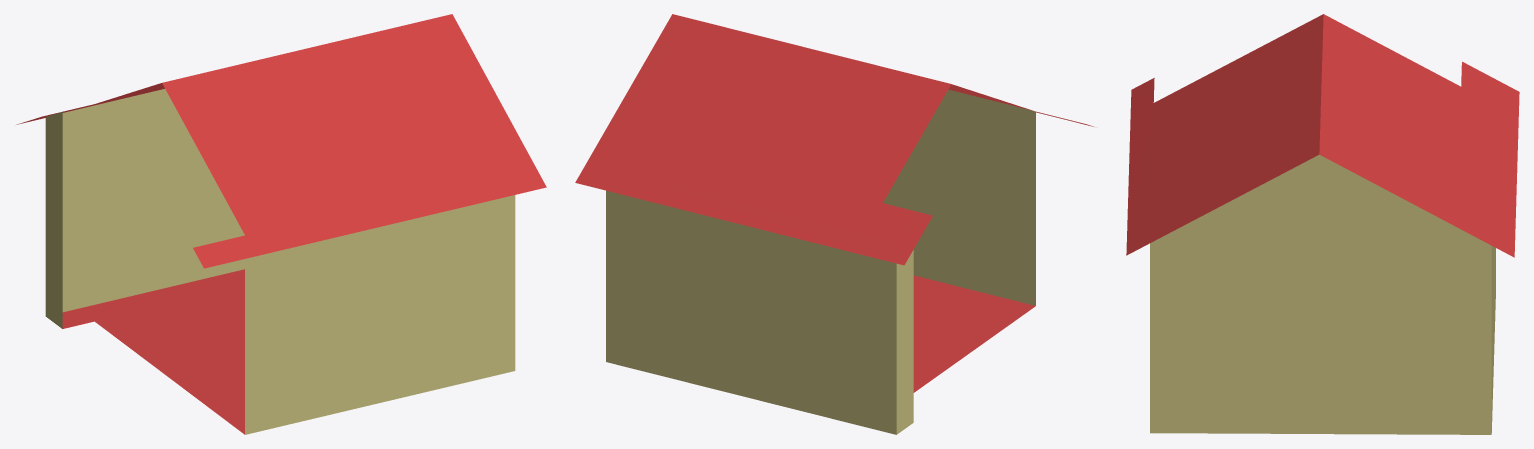
3 renders of one model, left to right at view 1: azimuth 30°, elevation 25°; view 2: azimuth 150°, elevation 25°; view 3: azimuth 270°, elevation 25°, orthographic. The views are drawn at different scales.
Bounding box in the file's own units: 12.87 × 12.73 × 10.34.
